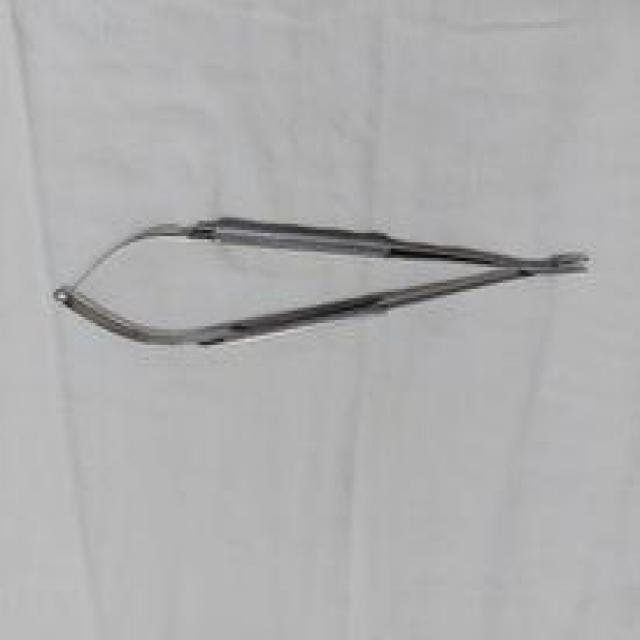Castroviejo: (51, 211, 594, 354)
